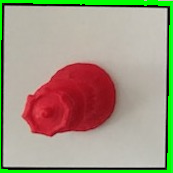Red Queen: (21, 59, 118, 140)
